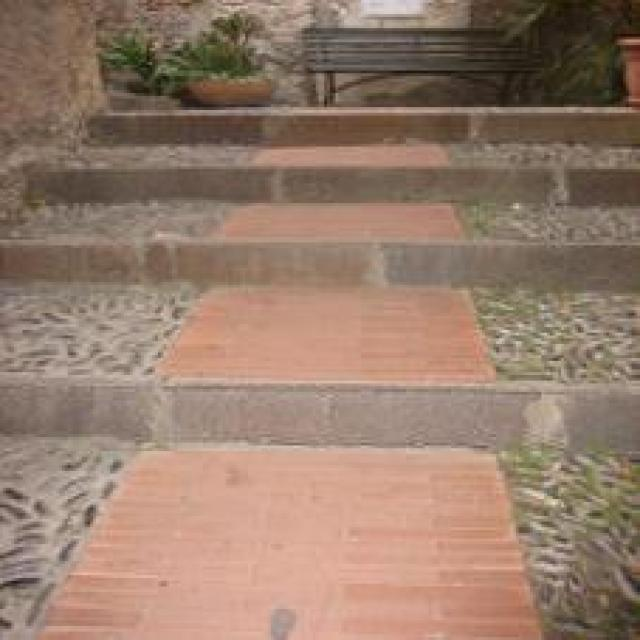stair: (1, 109, 640, 640)
